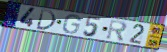2: (128, 24, 146, 46)
4: (18, 6, 36, 30)
5: (82, 16, 103, 39)
D: (34, 8, 57, 32)
G: (61, 14, 82, 35)
R: (105, 19, 129, 43)
